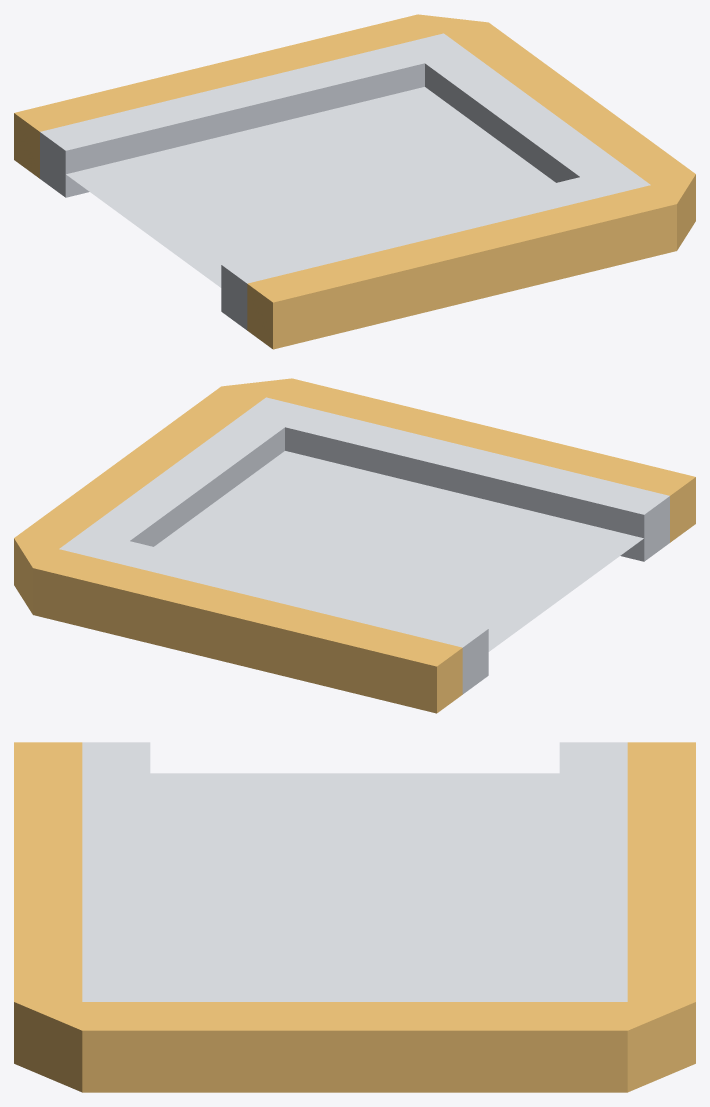
The model's file is platform_end.glb.
The picture shows the model from 3 angles, top to bottom: view 1: azimuth 30°, elevation 25°; view 2: azimuth 150°, elevation 25°; view 3: azimuth 270°, elevation 25°; orthographic projection. The views are drawn at different scales.
Parts seen in each view (by area): view 1: platform_end; view 2: platform_end; view 3: platform_end.
Boxes of the visible parts, <box> form: platform_end: <box>14,14,695,349</box>; platform_end: <box>14,378,695,713</box>; platform_end: <box>14,742,695,1092</box>.
Size of the model in its own units: 1 by 0.1 by 1.
